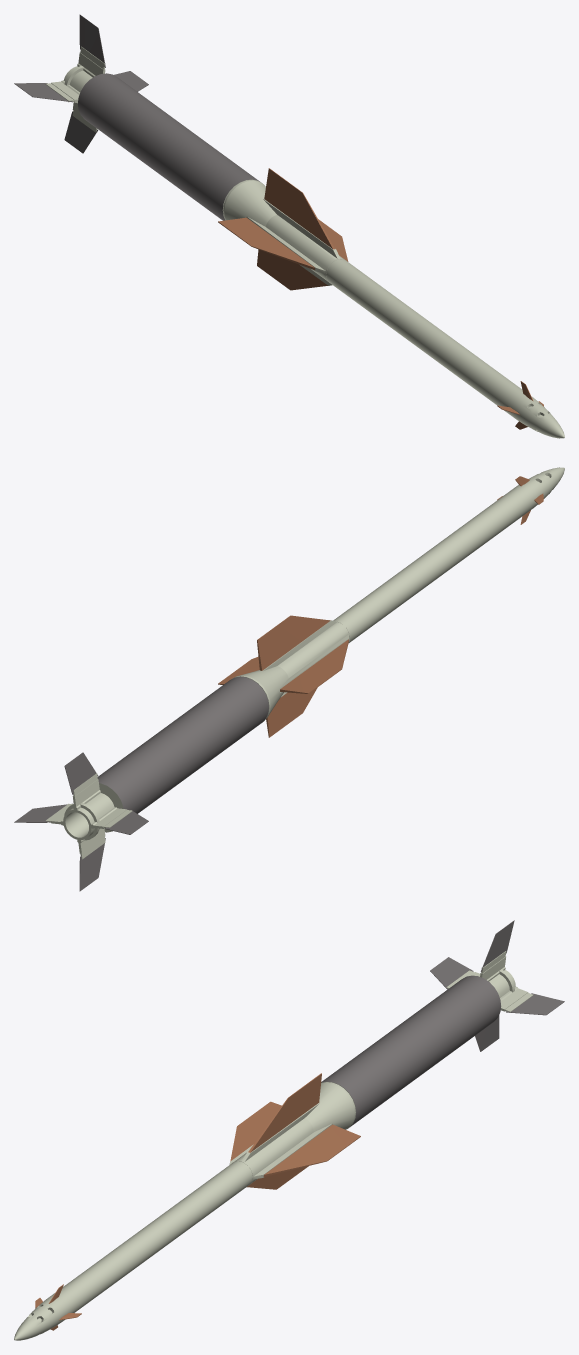
The model's file is 96B导弹模型Missile 1.FBX.
3 renders of one model, top to bottom at view 1: azimuth 30°, elevation 25°; view 2: azimuth 150°, elevation 25°; view 3: azimuth 330°, elevation 25°, orthographic.
Parts seen in each view (by area): view 1: 9m311miss7; view 2: 9m311miss7; view 3: 9m311miss7.
Boxes of the visible parts, <box> form: 9m311miss7: <box>14,14,564,438</box>; 9m311miss7: <box>14,467,564,891</box>; 9m311miss7: <box>14,920,564,1340</box>.
Bounding box in the file's own units: 37.14 × 37.14 × 272.
